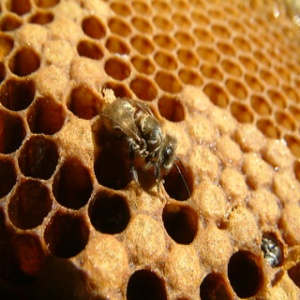bee: (98, 95, 192, 194)
